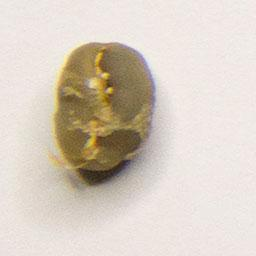peaberry: (52, 39, 159, 177)
